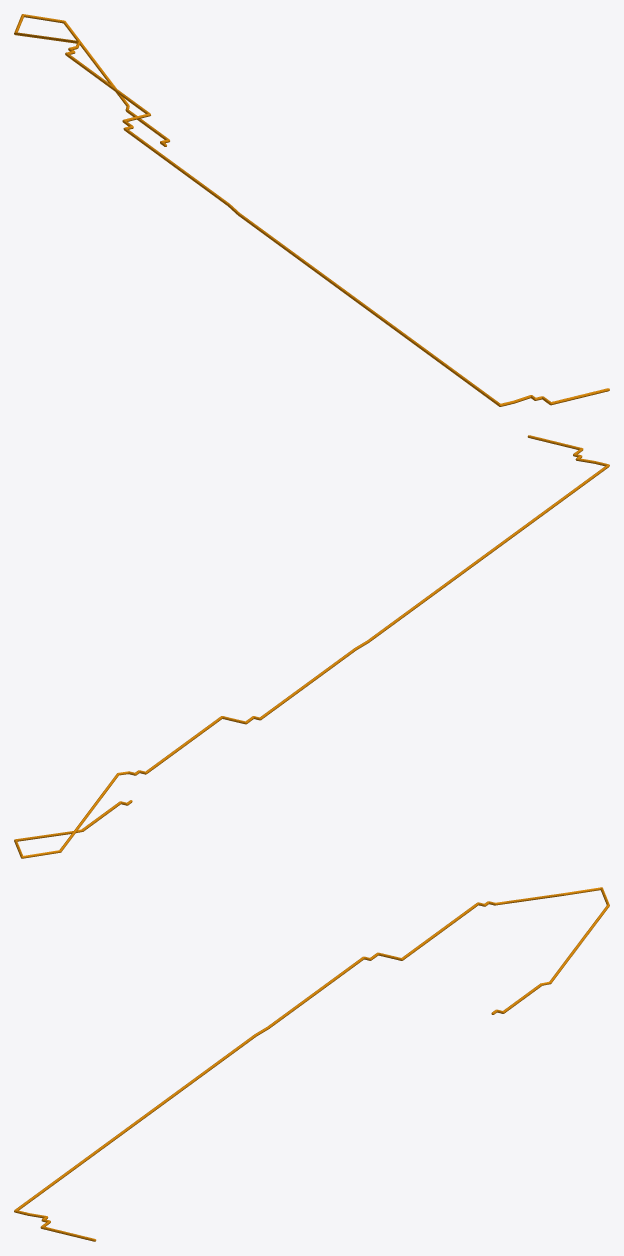
3 views of the same model, one above another, from view 1: azimuth 30°, elevation 25°; view 2: azimuth 150°, elevation 25°; view 3: azimuth 330°, elevation 25° (orthographic). The views are drawn at different scales.
Size of the model in its own units: 749 by 520 by 6869.
